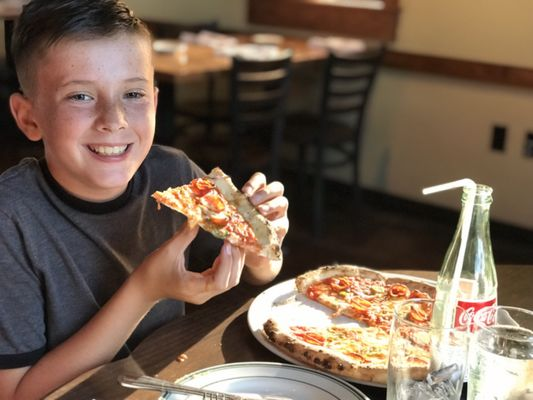pizza: (386, 297, 472, 400), (466, 306, 533, 400)
